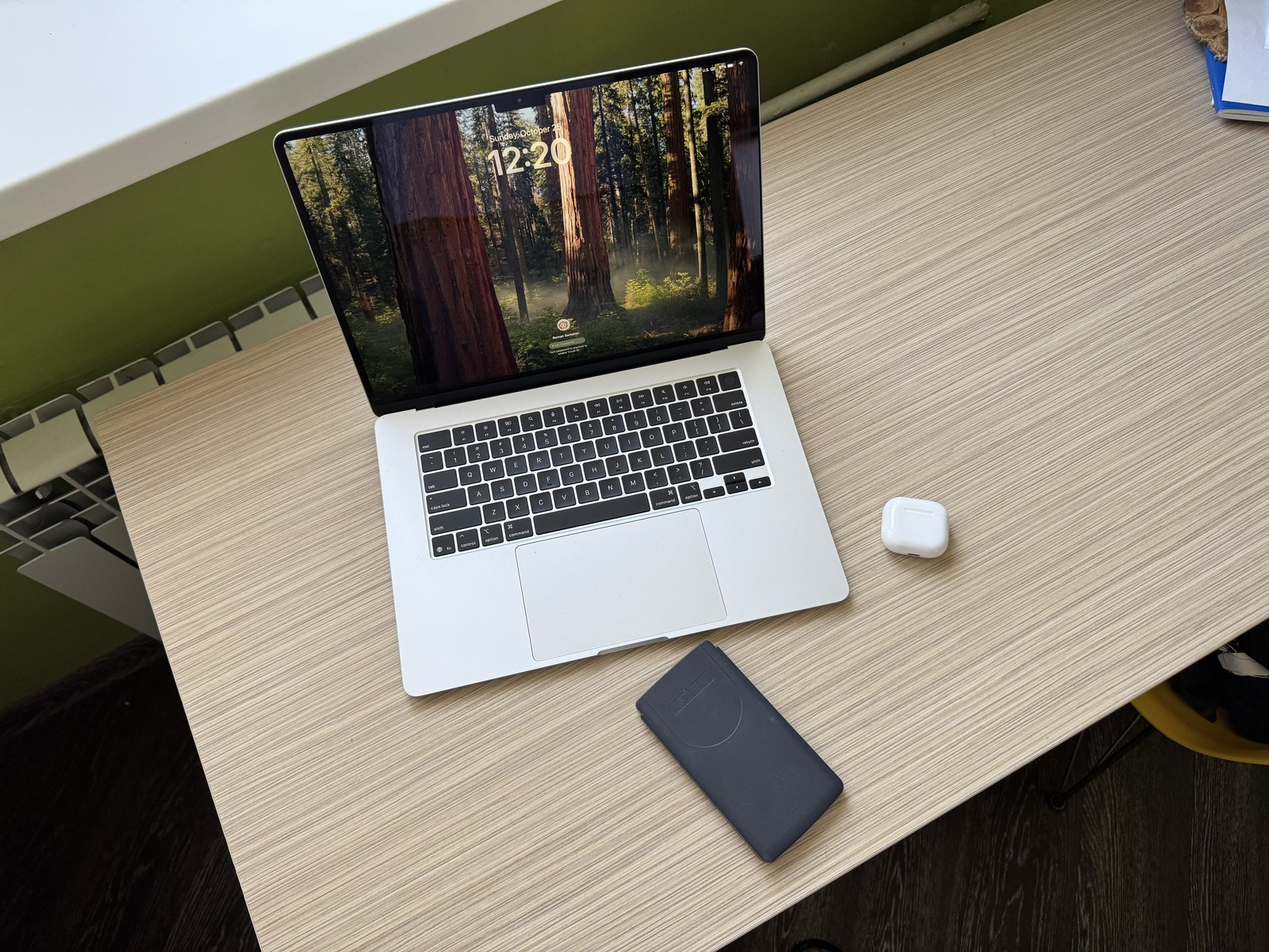cell phone: (635, 640, 844, 863)
laptop: (273, 47, 851, 697)
